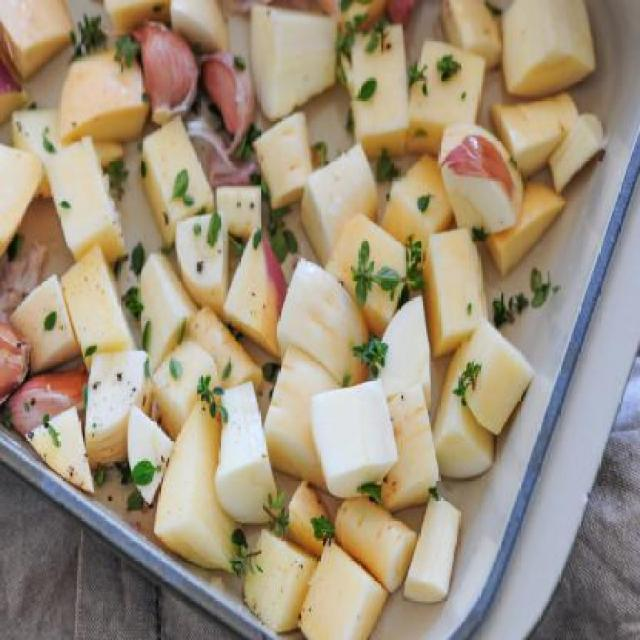Potato: (248, 6, 337, 117)
